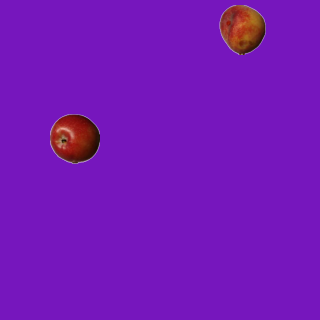Apple Braeburn: (49, 113, 99, 163)
Peach: (217, 4, 267, 54)
